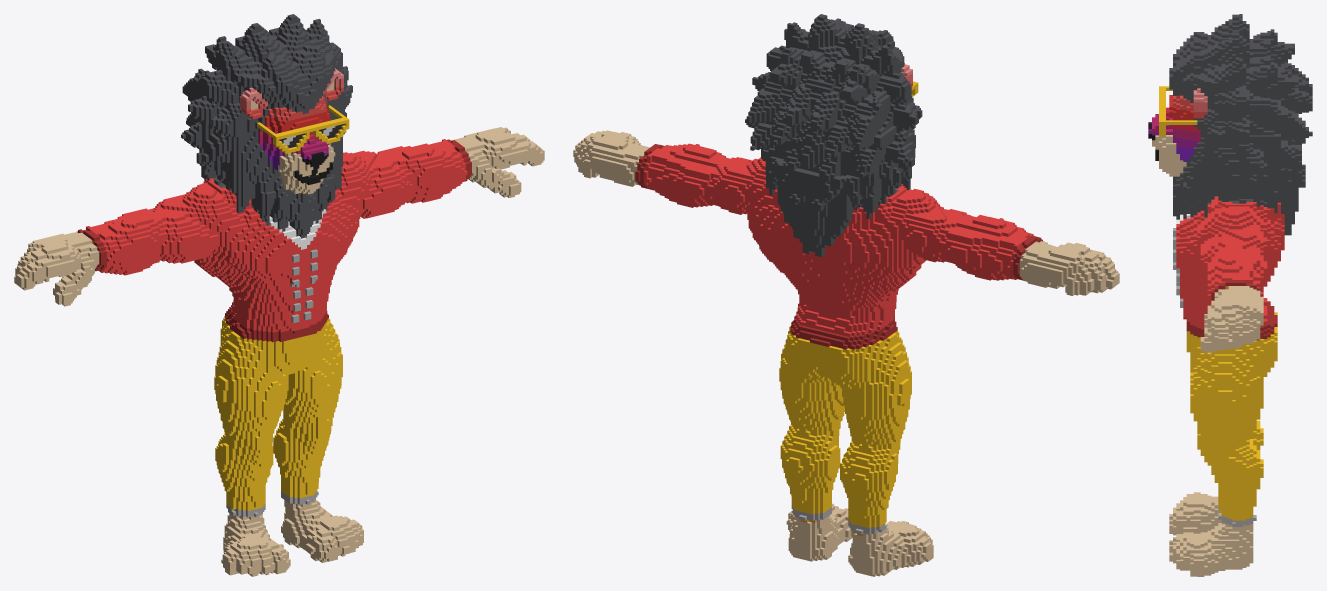
The model's file is 187-CMovDikV.glb.
The picture shows the model from 3 angles, left to right: view 1: azimuth 30°, elevation 25°; view 2: azimuth 150°, elevation 25°; view 3: azimuth 270°, elevation 25°; orthographic projection. The views are drawn at different scales.
Parts seen in each view (by area): view 1: griff; view 2: griff; view 3: griff.
Boxes of the visible parts, box(x1,y1,x2,y2) form: griff: box(14, 14, 544, 576); griff: box(573, 14, 1119, 576); griff: box(1148, 14, 1312, 576).
Size of the model in its own units: 17.2 by 16.5 by 4.7.
Materials: 1 (1 with a texture image).
